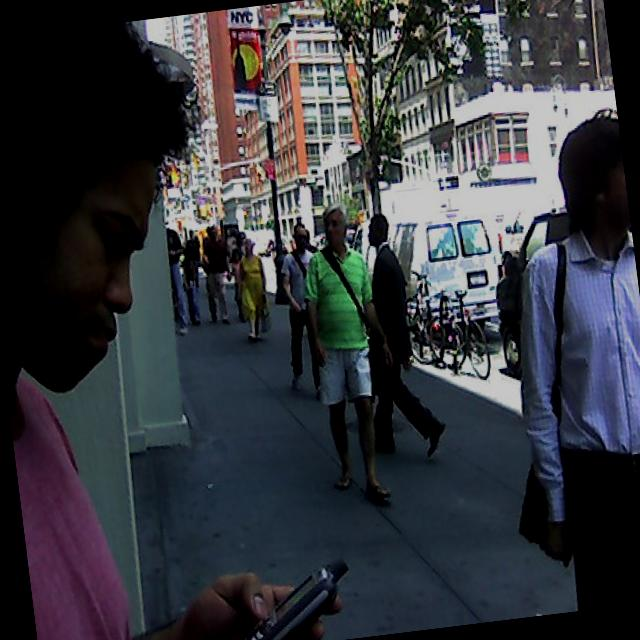Vehicle: (483, 210, 588, 374), (386, 205, 506, 334), (250, 228, 292, 258)
